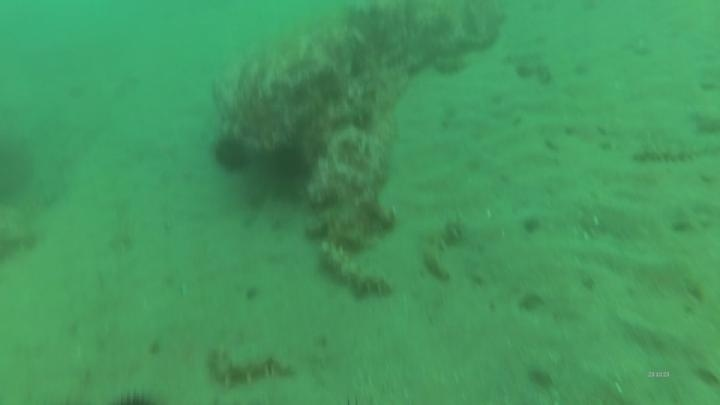echinus: (266, 140, 311, 186), (210, 131, 254, 177)
holothurian: (316, 239, 396, 303), (204, 342, 296, 390), (416, 214, 466, 285), (631, 136, 716, 168)
